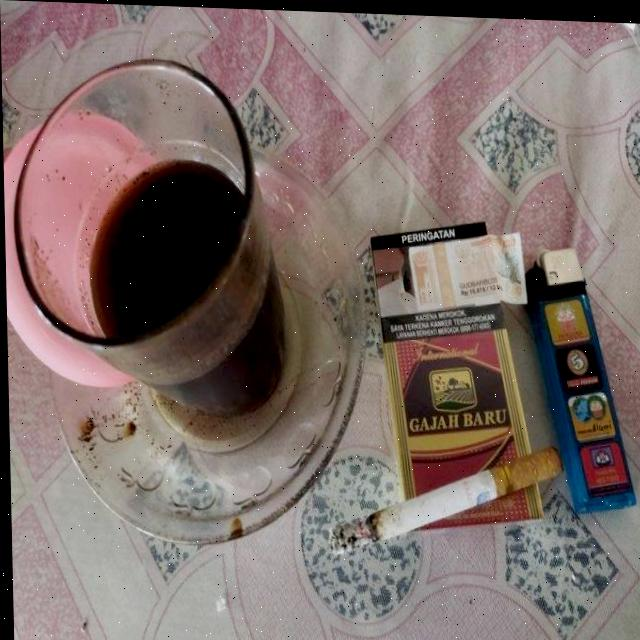cigarette: (322, 437, 565, 560)
